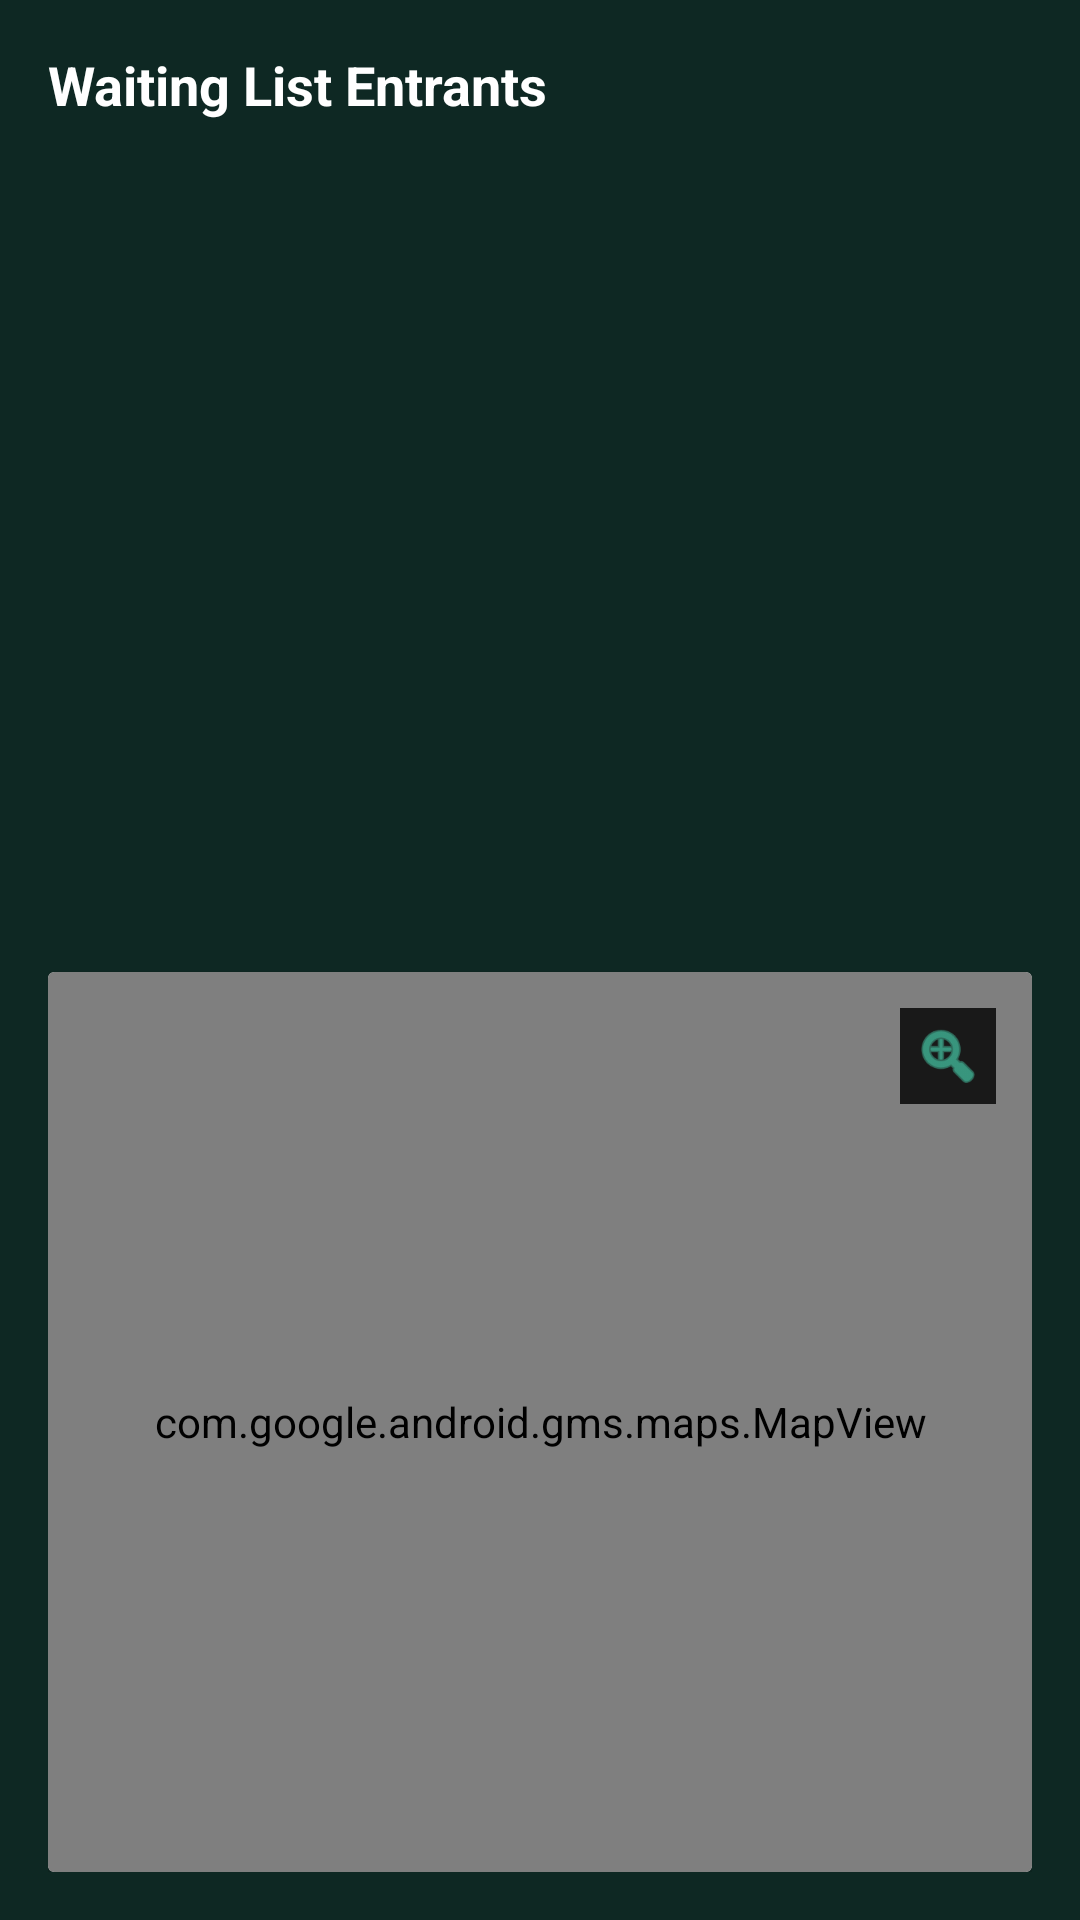

Where to tap for icons on this 1080w x 1920h app screen, as (x,y):
zoom: (948,1056)
